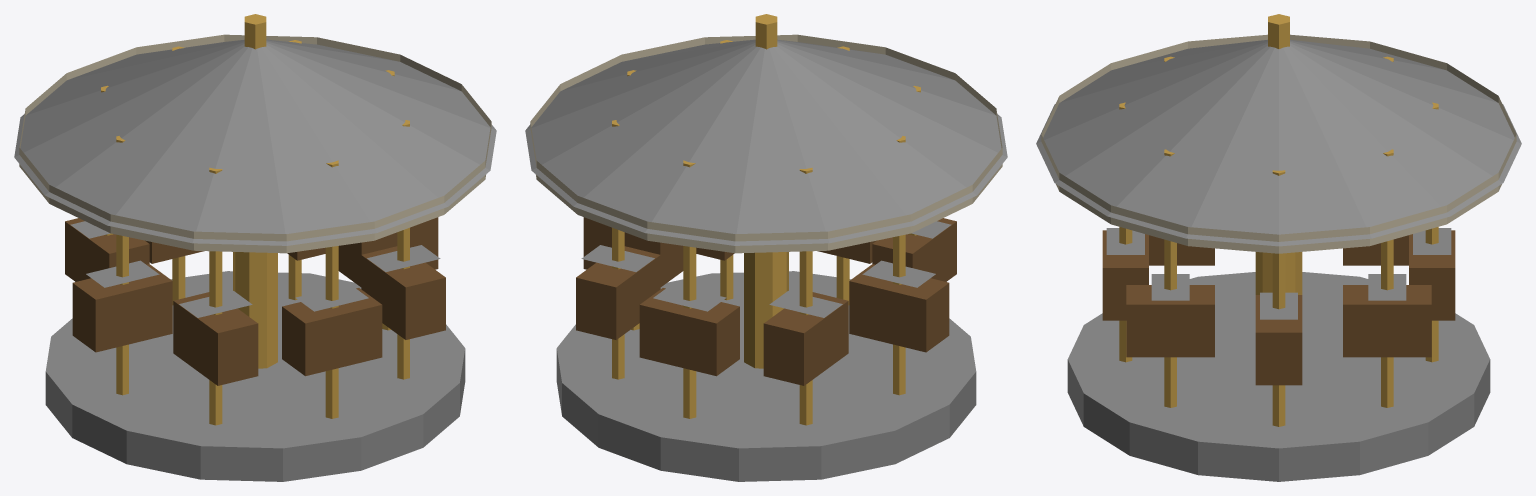
File: carousel.obj
3 renders of one model, left to right at view 1: azimuth 30°, elevation 25°; view 2: azimuth 150°, elevation 25°; view 3: azimuth 270°, elevation 25°, orthographic.
Bounding box in the file's own units: 4.6 × 3.9 × 4.6.
